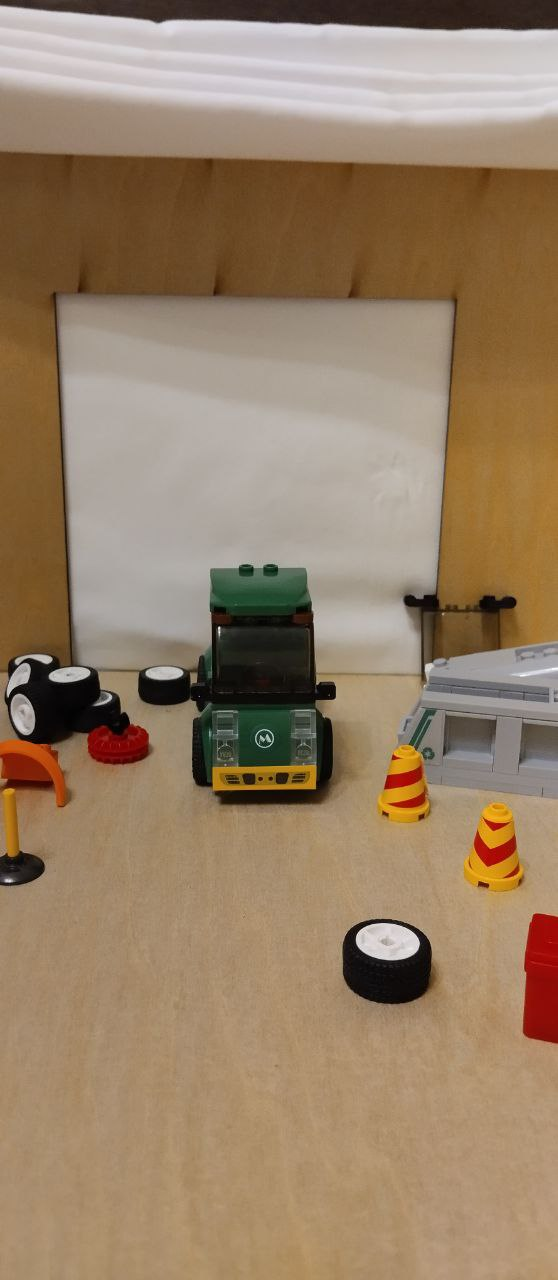Cone: (457, 802, 531, 891), (375, 743, 433, 827)
Object Red: (519, 906, 558, 1050)
Truck: (182, 553, 342, 808)
